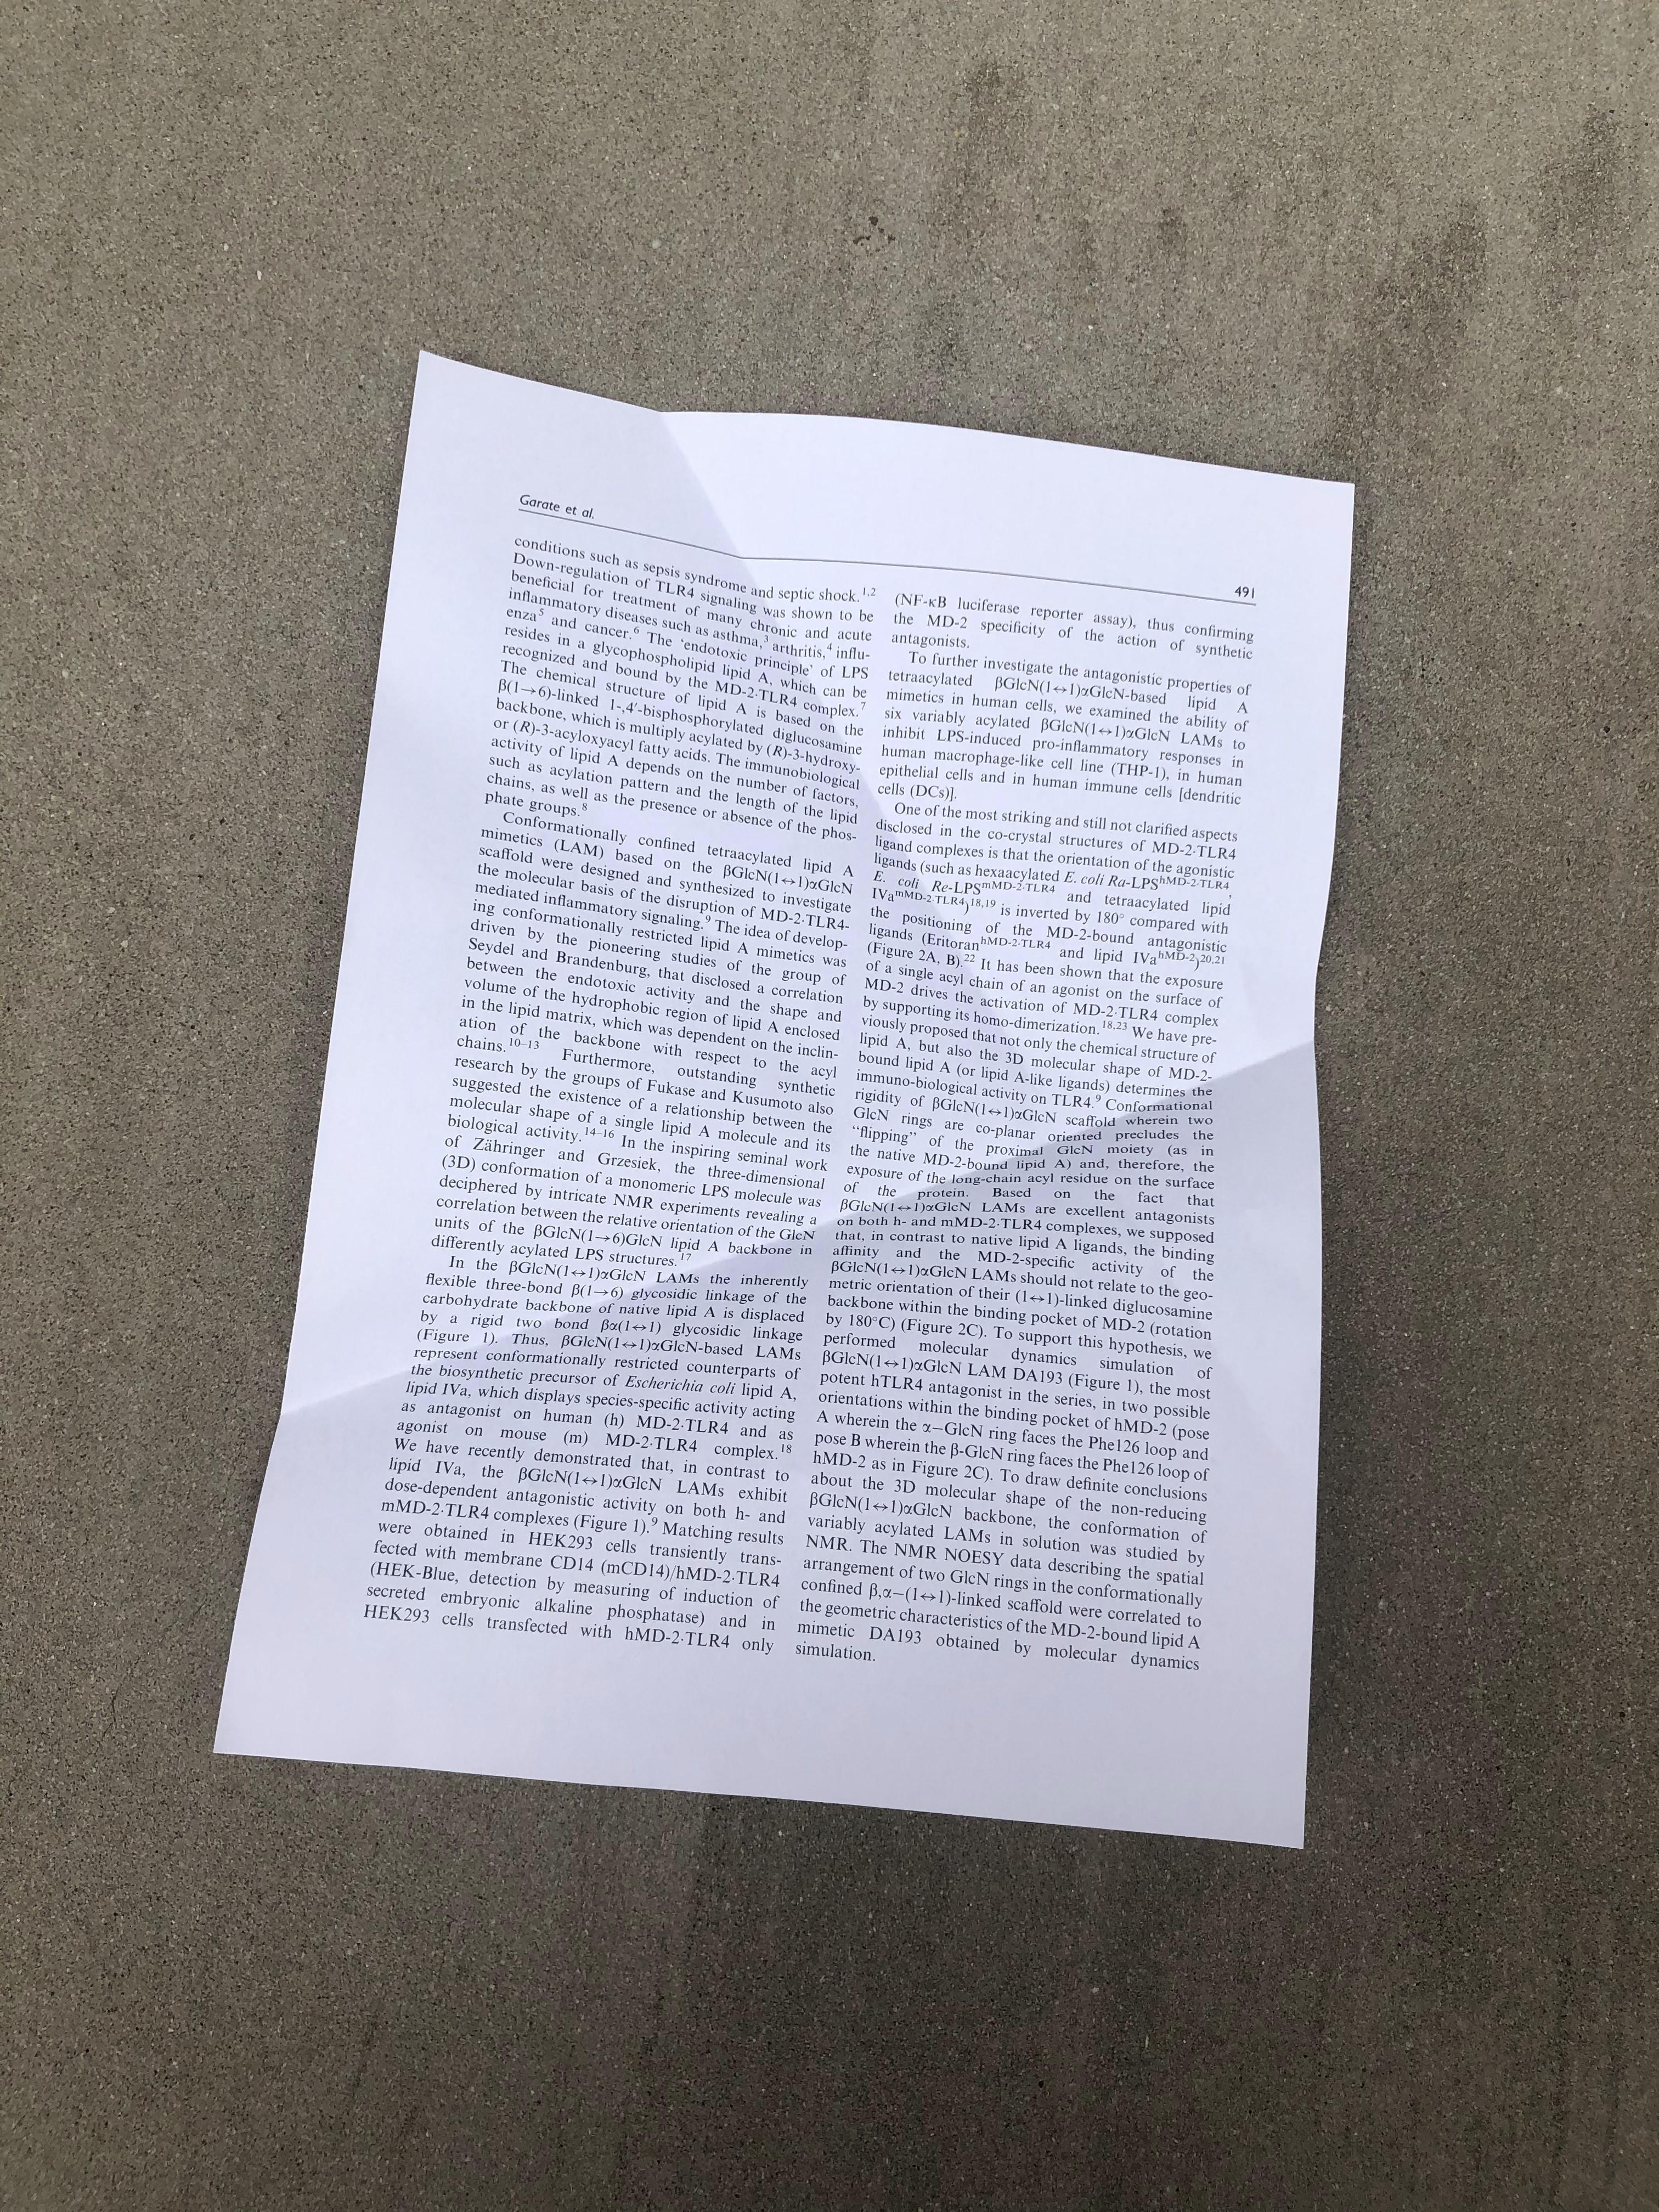paper: (134, 204, 1500, 1961)
